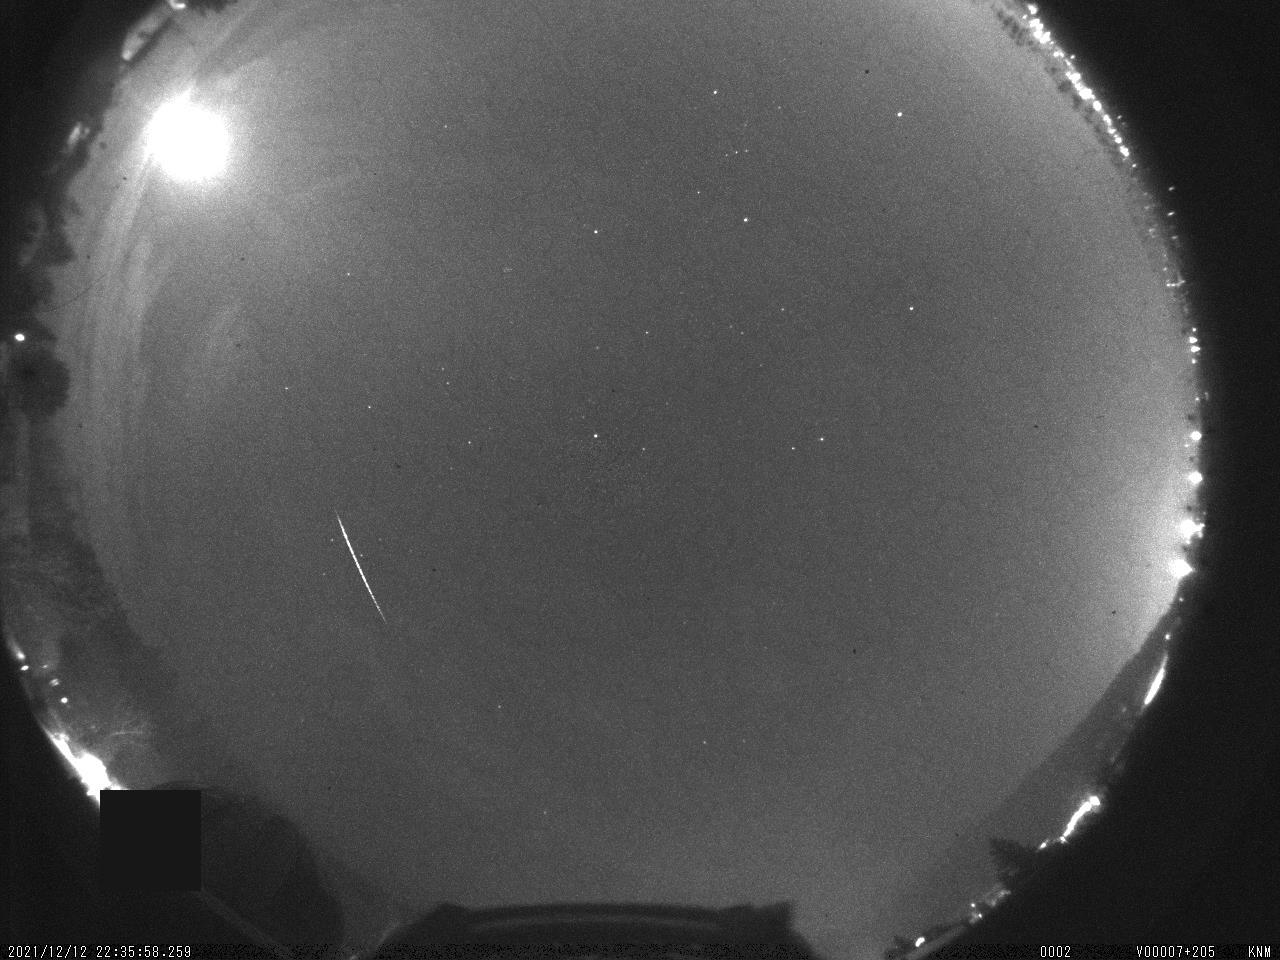meteor: (309, 486, 409, 649)
